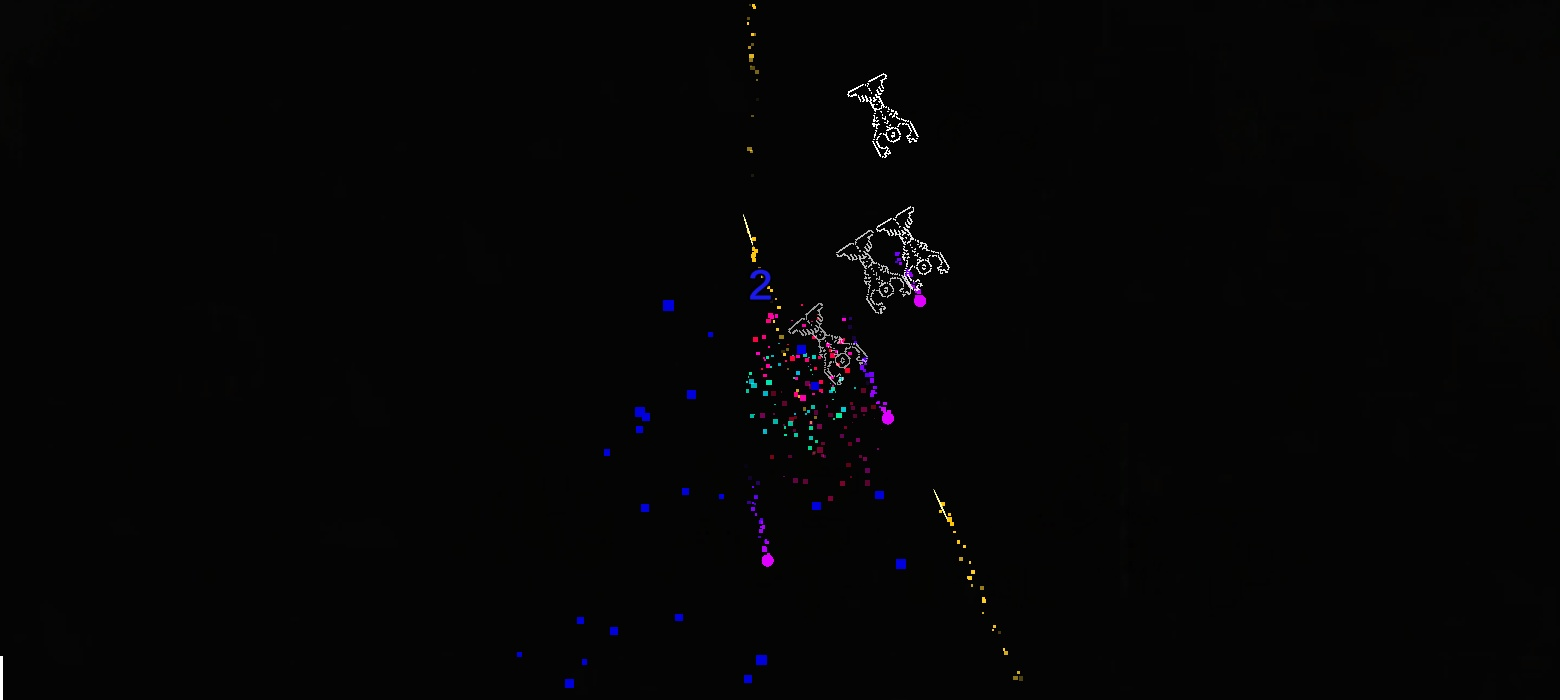enemy: (788, 302, 868, 385), (835, 230, 912, 314), (876, 205, 951, 291), (846, 73, 920, 158)
